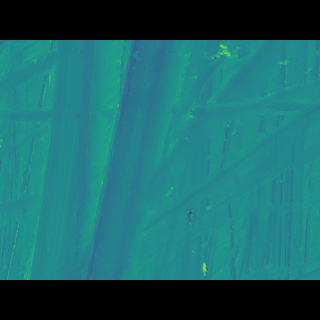Loch: (26, 70, 302, 248)
